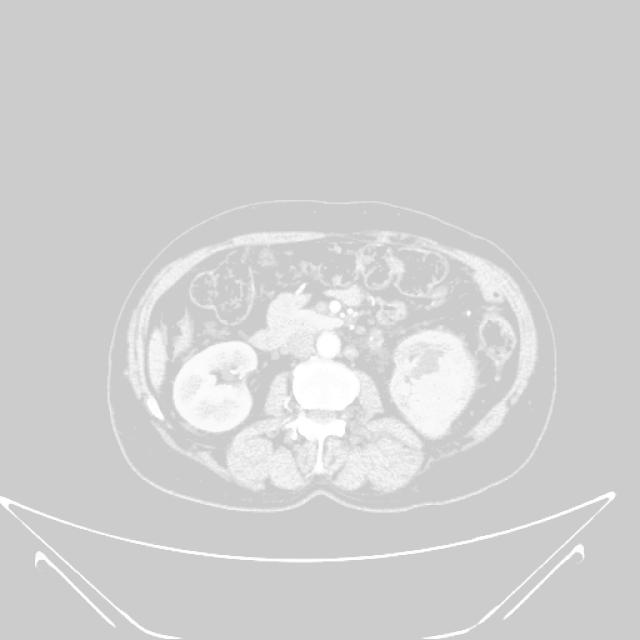TUMOR: (163, 324, 571, 431)
